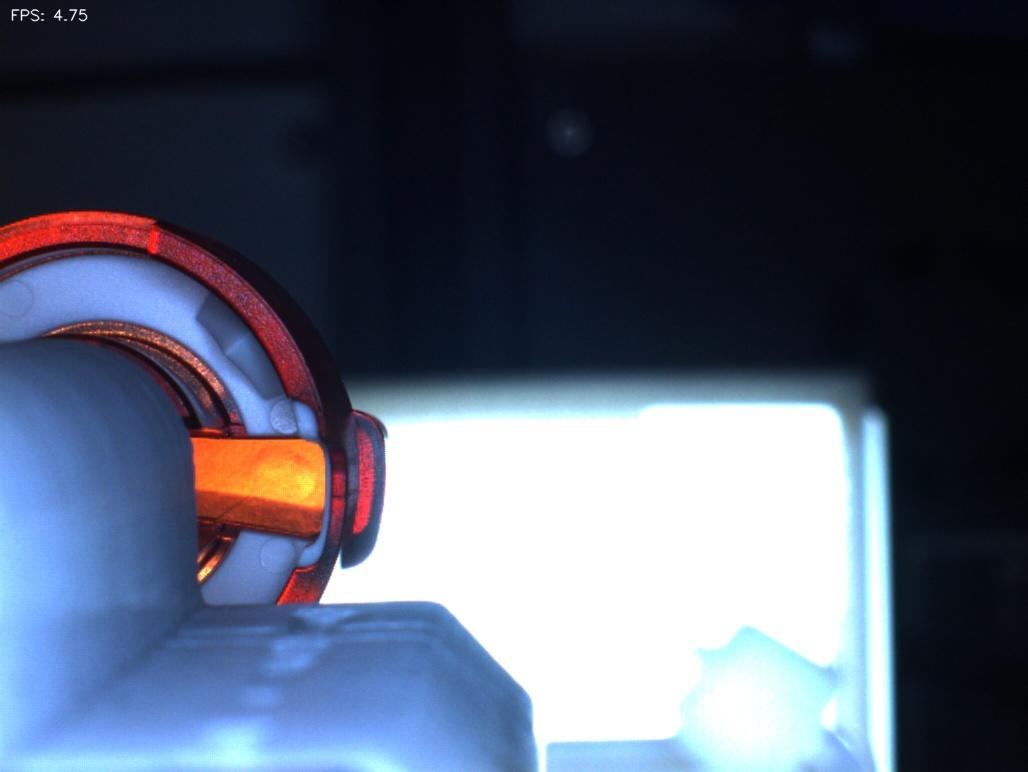Retassure: (221, 437, 321, 514)
